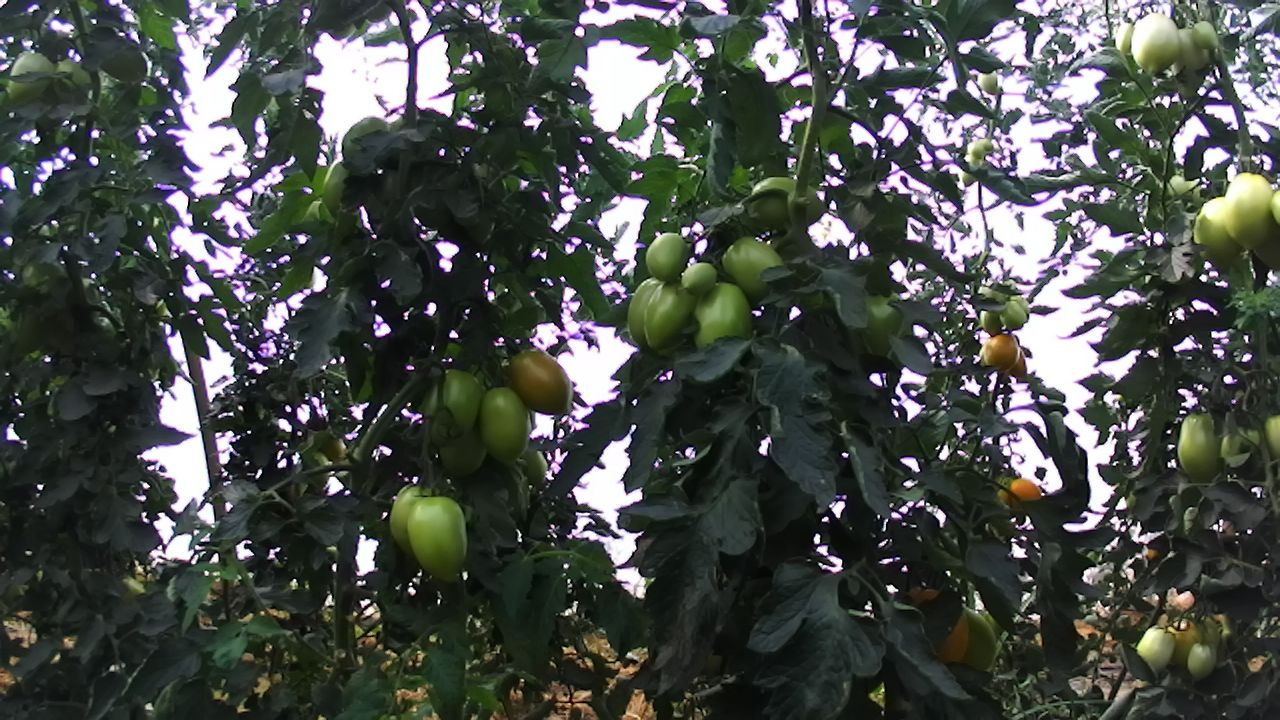tomato: (718, 224, 797, 307), (682, 276, 761, 354), (406, 491, 470, 586), (418, 361, 487, 443), (473, 381, 535, 470), (1216, 167, 1277, 254), (1188, 190, 1245, 280), (507, 345, 575, 419), (641, 273, 701, 351), (433, 419, 495, 483), (1171, 406, 1221, 485), (1128, 10, 1182, 78), (1, 46, 61, 105), (642, 230, 691, 286), (1131, 621, 1179, 676), (980, 330, 1020, 373), (1186, 640, 1220, 684), (680, 258, 720, 295), (994, 296, 1031, 333), (1190, 18, 1219, 51)
